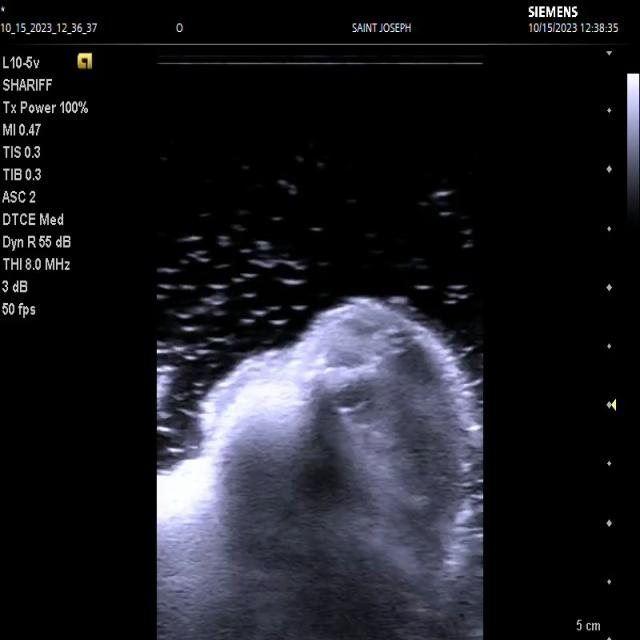tissue: (156, 306, 482, 640)
